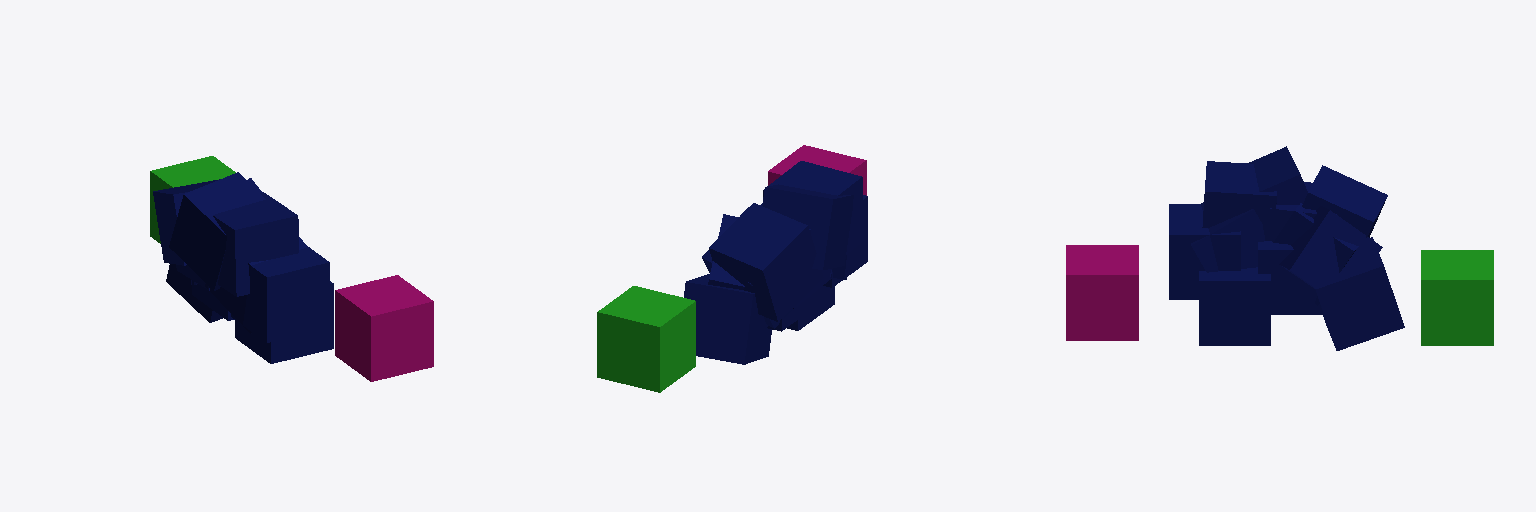
Rendered from blenderObj02.obj.
The picture shows the model from 3 angles: view 1: azimuth 30°, elevation 25°; view 2: azimuth 150°, elevation 25°; view 3: azimuth 270°, elevation 25°; orthographic projection.
Parts seen in each view (by area): view 1: Cube, Cube.002, Cube.009, Cube.006, Cube.005, Cube.012, Cube.007, Cube.003, Cube.004, Cube.011; view 2: Cube.012, Cube.007, Cube.003, Cube.006, Cube.009, Cube, Cube.002, Cube.010, Cube.005, Cube.011; view 3: Cube.012, Cube, Cube.005, Cube.003, Cube.002, Cube.010, Cube.009, Cube.007, Cube.011, Cube.004, Cube.006, Cube.008 (+1 smaller).
Part boxes in pixels (bbox=[...]): Cube: bbox=[335, 275, 433, 381]; Cube.002: bbox=[231, 247, 329, 342]; Cube.009: bbox=[213, 192, 298, 296]; Cube.006: bbox=[169, 172, 265, 290]; Cube.005: bbox=[235, 281, 333, 363]; Cube.012: bbox=[150, 156, 235, 243]; Cube.007: bbox=[153, 179, 219, 265]; Cube.003: bbox=[166, 264, 222, 322]; Cube.004: bbox=[205, 237, 307, 333]; Cube.011: bbox=[192, 280, 234, 320]; Cube.012: bbox=[597, 286, 695, 392]; Cube.007: bbox=[709, 203, 823, 321]; Cube.003: bbox=[684, 274, 771, 364]; Cube.006: bbox=[762, 184, 853, 269]; Cube.009: bbox=[763, 161, 864, 254]; Cube: bbox=[768, 145, 866, 195]; Cube.002: bbox=[823, 195, 867, 287]; Cube.010: bbox=[708, 214, 744, 289]; Cube.005: bbox=[787, 286, 834, 330]; Cube.011: bbox=[767, 290, 817, 331]; Cube.012: bbox=[1421, 250, 1493, 345]; Cube: bbox=[1066, 245, 1138, 340]; Cube.005: bbox=[1199, 267, 1270, 345]; Cube.003: bbox=[1315, 237, 1404, 350]; Cube.002: bbox=[1169, 204, 1240, 299]; Cube.010: bbox=[1279, 206, 1382, 288]; Cube.009: bbox=[1202, 161, 1276, 227]; Cube.007: bbox=[1302, 165, 1387, 237]; Cube.011: bbox=[1258, 241, 1323, 314]; Cube.004: bbox=[1191, 202, 1264, 272]; Cube.006: bbox=[1247, 146, 1307, 204]; Cube.008: bbox=[1273, 203, 1373, 305].
Bounding box in the file's own units: 4.53 × 4.77 × 11.81.